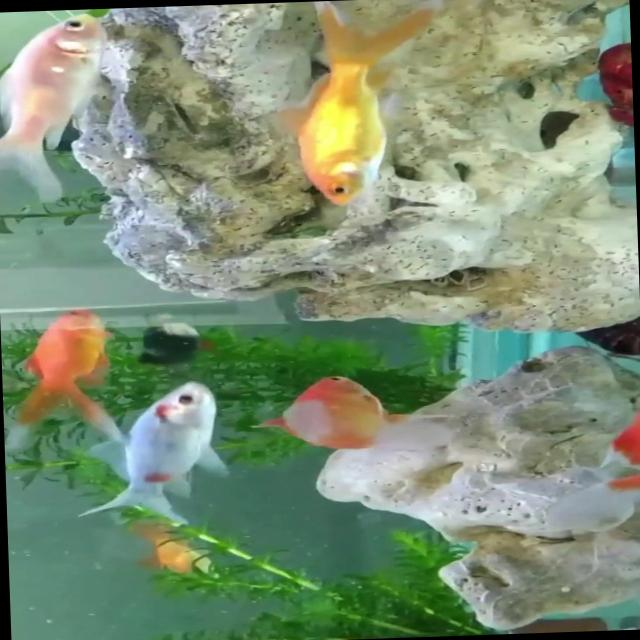GoldFish: (253, 0, 466, 213), (0, 8, 144, 203), (73, 379, 238, 525), (5, 296, 124, 458)
